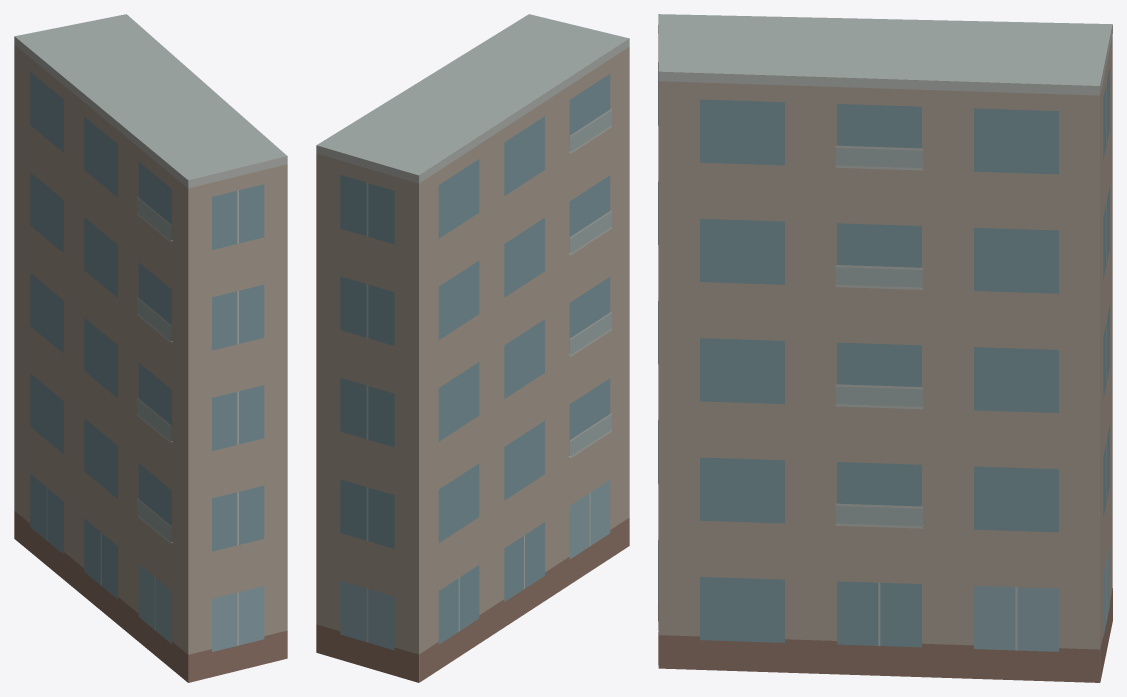
The model's file is survey-upis-32832596.glb.
3 views of the same model, side by side, from view 1: azimuth 30°, elevation 25°; view 2: azimuth 150°, elevation 25°; view 3: azimuth 270°, elevation 25° (orthographic). The views are drawn at different scales.
Visible parts, largest first — view 1: survey-upis-32832596.tmp; view 2: survey-upis-32832596.tmp; view 3: survey-upis-32832596.tmp.
Boxes of the visible parts, x1,y1,x2,y2 form: survey-upis-32832596.tmp: [14, 14, 287, 682]; survey-upis-32832596.tmp: [316, 14, 629, 682]; survey-upis-32832596.tmp: [658, 14, 1112, 682].
Size of the model in its own units: 3.96 by 15.25 by 10.53.
